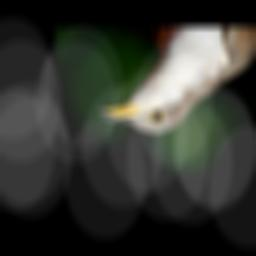Cuckoo: (98, 27, 256, 133)
